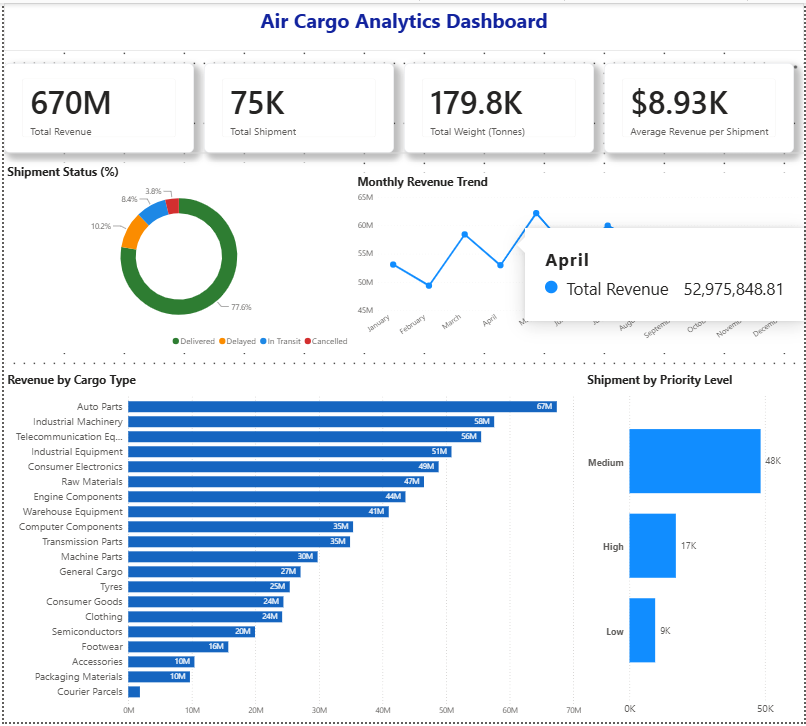

Layout of this report page (visuals, bound fields, positions):
{"tool":"powerbi","page":{"name":"Air Cargo Analytics Dashboard","canvas":[1280,1150],"ordinal":0},"visuals":[{"type":"barChart","title":"Revenue by Cargo Type","fields":{"Category":["warehouse fact_shipments.cargo_type"],"Y":["warehouse fact_shipments.Total Revenue"]},"box":[0,590,928,560],"z":0},{"type":"lineChart","title":"Monthly Revenue Trend","fields":{"Category":["warehouse dim_date.full_date.Variation.Date Hierarchy.Year","warehouse dim_date.full_date.Variation.Date Hierarchy.Quarter","warehouse dim_date.full_date.Variation.Date Hierarchy.Month","warehouse dim_date.full_date.Variation.Date Hierarchy.Day"],"Y":["warehouse fact_shipments.Total Revenue"]},"box":[560,272,720,288],"z":1000},{"type":"donutChart","title":"Shipment Status (%)","fields":{"Category":["warehouse fact_shipments.shipment_status"],"Y":["warehouse fact_shipments.Total Shipment"]},"box":[0,256,560,304],"z":2000},{"type":"barChart","title":"Shipment by Priority Level","fields":{"Category":["warehouse fact_shipments.priority_level"],"Y":["warehouse fact_shipments.Total Shipment"]},"box":[928,590,352,560],"z":3000},{"type":"textbox","box":[0,0,1280.3,75.8],"z":4000},{"type":"cardVisual","fields":{"Data":["warehouse fact_shipments.Total Revenue"]},"box":[0,96,304,144],"z":5000},{"type":"cardVisual","fields":{"Data":["warehouse fact_shipments.Total Shipment"]},"box":[320,96,304,144],"z":6000},{"type":"cardVisual","fields":{"Data":["warehouse fact_shipments.Total Weight"]},"box":[640,96,304,144],"z":7000},{"type":"cardVisual","fields":{"Data":["warehouse fact_shipments.Average Revenue"]},"box":[960,96,304,144],"z":8000},{"type":"shape","box":[0,96,1280,288],"z":9000}]}

Visuals, with their boxes in screenshot pixels (x1, y1, x2, y2), scaled from the page's 1280x1150 canvas onto the 806x726 screenshot:
"Revenue by Cargo Type" barChart: [left=0, top=372, right=584, bottom=725]
"Monthly Revenue Trend" lineChart: [left=353, top=172, right=805, bottom=354]
"Shipment Status (%)" donutChart: [left=0, top=162, right=353, bottom=354]
"Shipment by Priority Level" barChart: [left=584, top=372, right=805, bottom=725]
textbox: [left=0, top=0, right=805, bottom=48]
cardVisual - warehouse fact_shipments.Total Revenue: [left=0, top=61, right=191, bottom=152]
cardVisual - warehouse fact_shipments.Total Shipment: [left=202, top=61, right=393, bottom=152]
cardVisual - warehouse fact_shipments.Total Weight: [left=403, top=61, right=594, bottom=152]
cardVisual - warehouse fact_shipments.Average Revenue: [left=604, top=61, right=796, bottom=152]
shape: [left=0, top=61, right=805, bottom=242]
